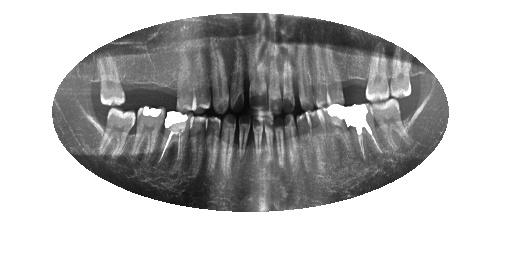i10decay: (235, 110, 251, 164)
i11decay: (220, 110, 237, 177)
i12healthy: (202, 110, 223, 176)
i13healthy: (187, 110, 209, 177)
i14healthy: (155, 105, 189, 177)
i15healthy: (129, 101, 167, 168)
i16healthy: (95, 102, 137, 160)
i1healthy: (370, 99, 415, 152)
i2healthy: (346, 100, 386, 164)
i3healthy: (327, 103, 353, 160)
i4healthy: (308, 106, 331, 170)
i5healthy: (293, 110, 315, 170)
i6decay: (280, 113, 300, 171)
i7decay: (274, 114, 288, 170)
i8decay: (264, 111, 277, 165)
i9decay: (249, 111, 264, 164)
u10decay: (225, 40, 249, 115)
u11healthy: (208, 42, 231, 115)
u12healthy: (189, 44, 212, 115)
u13healthy: (174, 50, 199, 114)
u14loss: (147, 51, 176, 108)
u15loss: (122, 52, 151, 106)
u16healthy: (93, 53, 130, 109)
u1healthy: (388, 40, 414, 99)
u2healthy: (365, 34, 392, 104)
u3loss: (342, 44, 366, 103)
u4healthy: (322, 37, 347, 107)
u5chipped: (305, 39, 331, 108)
u6healthy: (294, 43, 316, 113)
u7decay: (277, 53, 299, 118)
u8decay: (264, 56, 281, 116)
u9decay: (245, 51, 271, 113)
